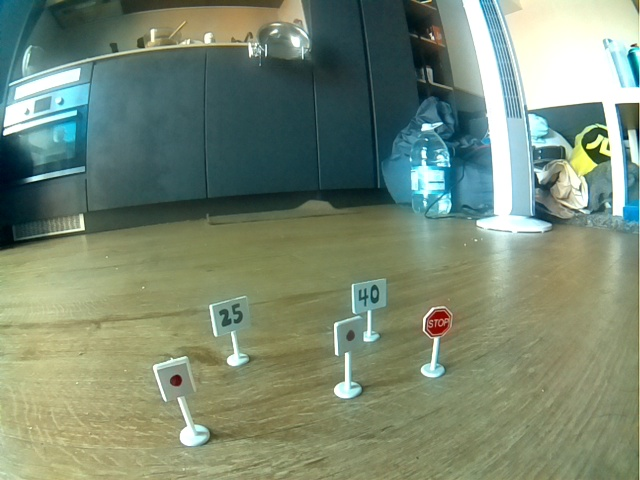red light: (153, 362, 195, 400), (336, 322, 361, 352)
speed 25: (211, 300, 251, 333)
speed 40: (353, 282, 387, 309)
stop: (424, 305, 453, 340)
